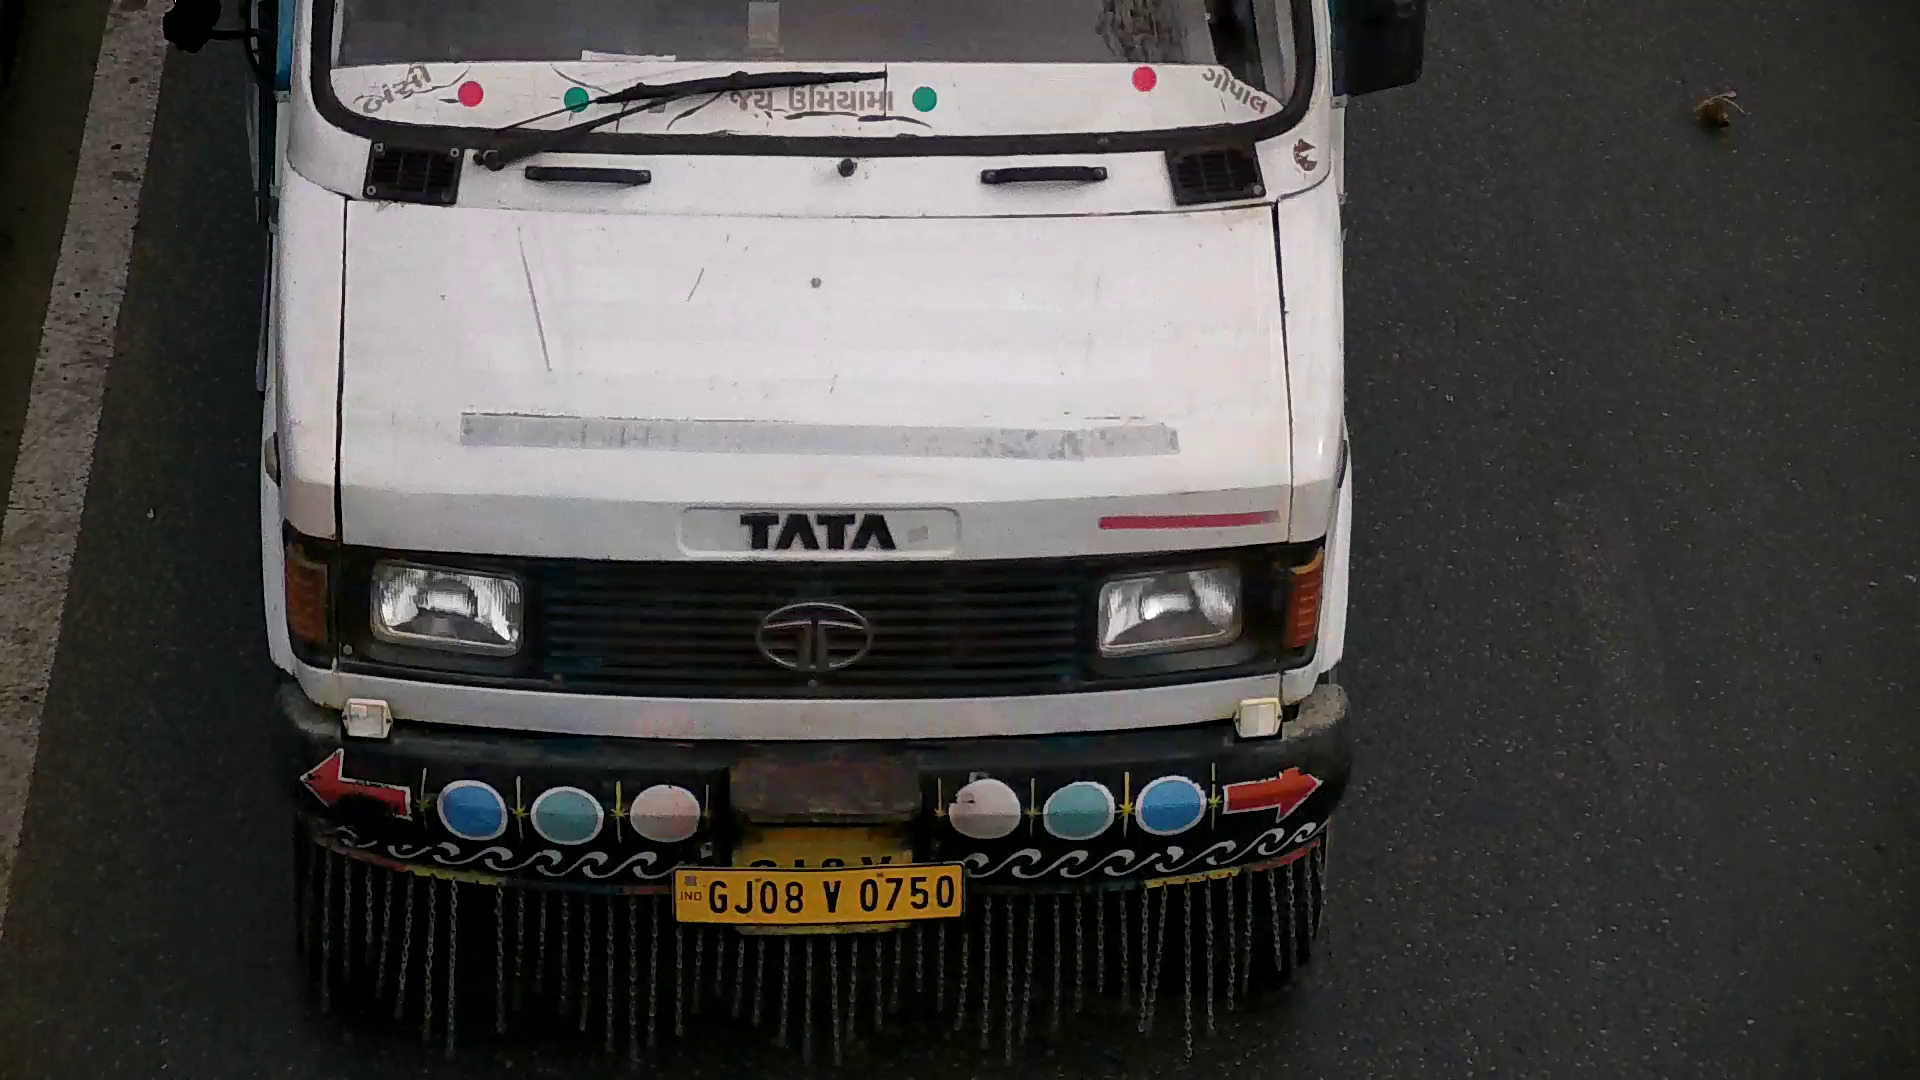numberplate: (668, 861, 968, 926)
